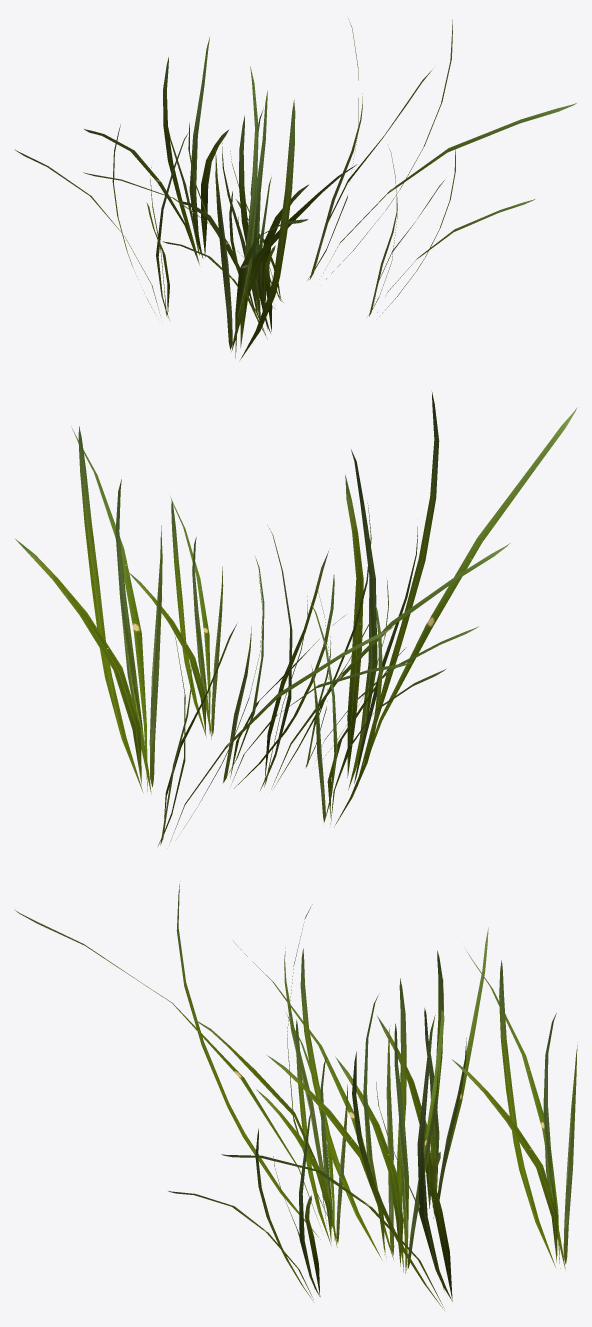
File: Detailed Grass 06 Variant 2.fbx
3 renders of one model, top to bottom at view 1: azimuth 30°, elevation 25°; view 2: azimuth 150°, elevation 25°; view 3: azimuth 270°, elevation 25°, orthographic. The views are drawn at different scales.
Parts seen in each view (by area): view 1: detailed_grass_06_2_LOD0; view 2: detailed_grass_06_2_LOD0; view 3: detailed_grass_06_2_LOD0.
Boxes of the visible parts, left/top/right/bottom form: detailed_grass_06_2_LOD0: left=14, top=18, right=576, bottom=359; detailed_grass_06_2_LOD0: left=15, top=392, right=577, bottom=845; detailed_grass_06_2_LOD0: left=14, top=881, right=577, bottom=1310.
Size of what is drawn, in the model's own units: 157 by 104 by 148.
Materials: 1 (1 with a texture image).
